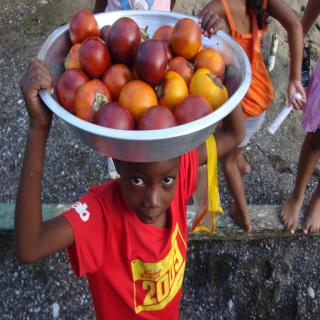tomato: (189, 65, 233, 107), (70, 81, 111, 124), (134, 38, 169, 88), (154, 67, 190, 111), (116, 78, 156, 117), (108, 13, 140, 61), (55, 66, 89, 110), (174, 90, 215, 125), (170, 12, 203, 55), (78, 36, 110, 78), (105, 59, 134, 98), (193, 46, 224, 82), (70, 10, 100, 44), (96, 100, 132, 128), (138, 106, 174, 132), (63, 39, 84, 71), (169, 56, 192, 84), (152, 20, 176, 46), (134, 21, 150, 40)
